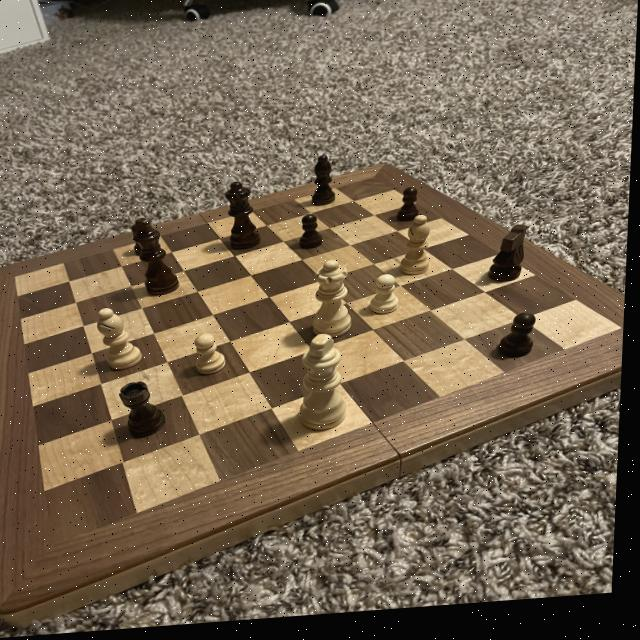bishop: (308, 158, 340, 214)
black-bishop: (130, 212, 190, 311)
black-king: (482, 226, 537, 295)
black-knight: (393, 188, 428, 229), (295, 217, 328, 258), (129, 222, 158, 265)
black-pawn: (220, 182, 265, 260)
black-queen: (118, 381, 171, 443)
black-rook: (93, 304, 152, 378), (396, 216, 438, 289)
white-bishop: (293, 336, 359, 443)
white-knight: (495, 315, 546, 373), (190, 333, 234, 384), (371, 279, 405, 325)
white-pawn: (311, 262, 359, 347)
